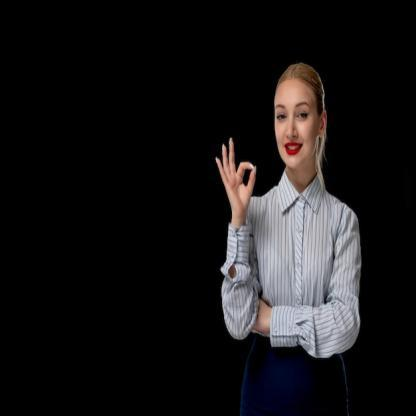ok: (213, 134, 259, 225)
